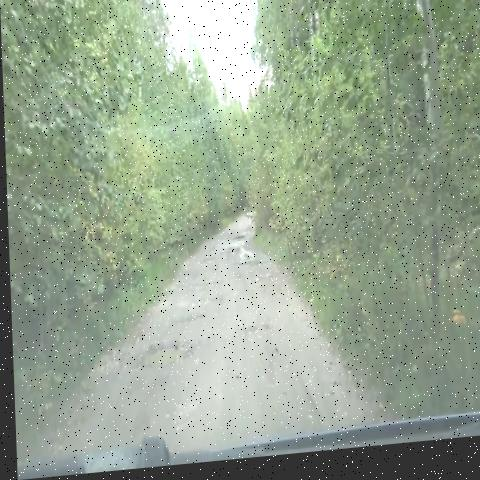pothole: (125, 330, 199, 387), (157, 306, 208, 342), (228, 251, 272, 289), (186, 295, 221, 323), (223, 233, 258, 258), (185, 278, 223, 301), (194, 256, 217, 276)
